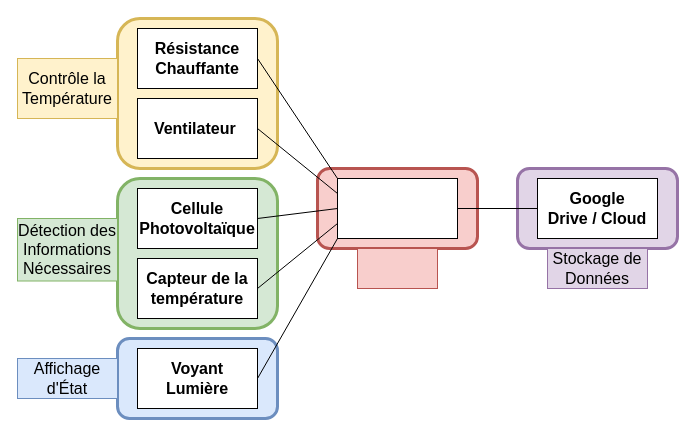
This 696x437 diagram has some shape labels left out. The shapes that lost their labels are listed below. From the top down, each one's centre as x and y in pixels, then its label:
At [397,208]: "Jetson Nano".
At [397,268]: "Contrôleur Central".
